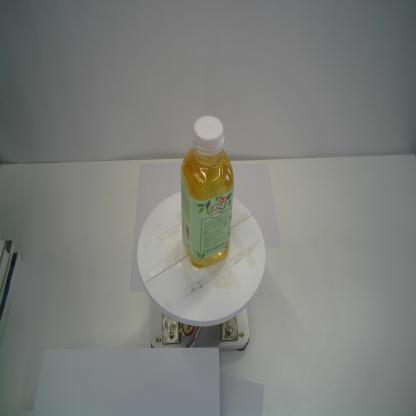Drink: (180, 114, 234, 271)
